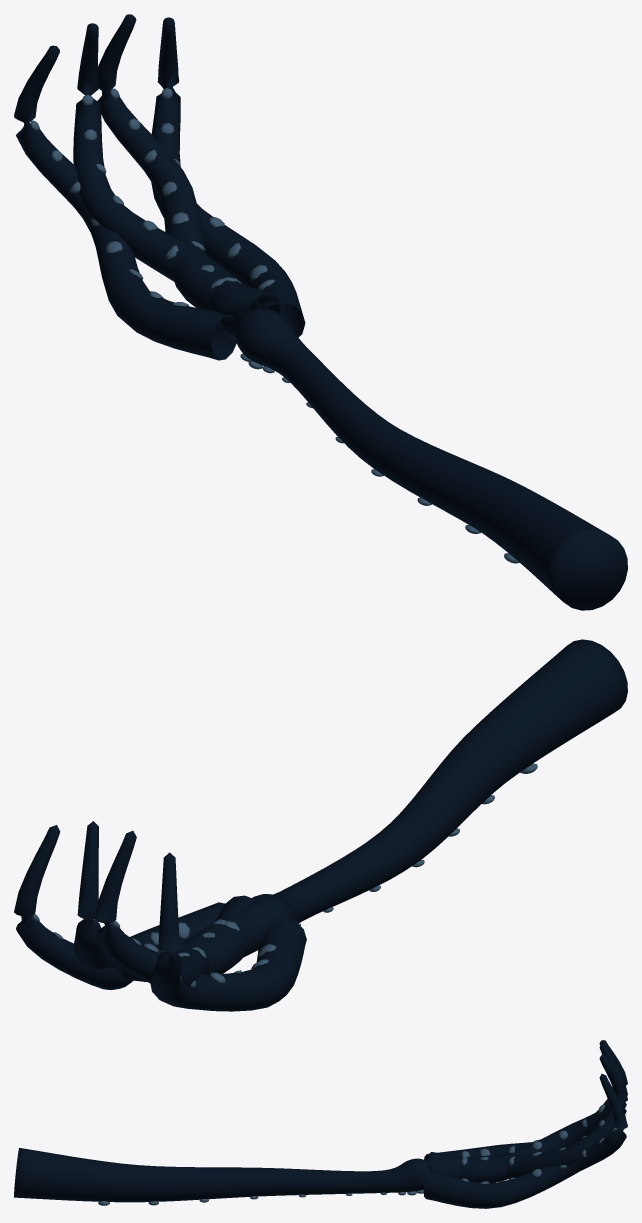
File: hand2.glb
3 renders of one model, top to bottom at view 1: azimuth 30°, elevation 25°; view 2: azimuth 150°, elevation 25°; view 3: azimuth 270°, elevation 25°, orthographic. The views are drawn at different scales.
Parts seen in each view (by area): view 1: Hand, HandSuckers; view 2: Hand, HandSuckers; view 3: Hand, HandSuckers.
Boxes of the visible parts, bbox=[...] form: Hand: bbox=[14, 14, 627, 610]; HandSuckers: bbox=[30, 88, 519, 563]; Hand: bbox=[14, 639, 627, 1011]; HandSuckers: bbox=[32, 763, 537, 987]; Hand: bbox=[14, 1040, 627, 1208]; HandSuckers: bbox=[98, 1104, 617, 1205].
Bounding box in the file's own units: 0.3994 × 0.5762 × 2.14.
